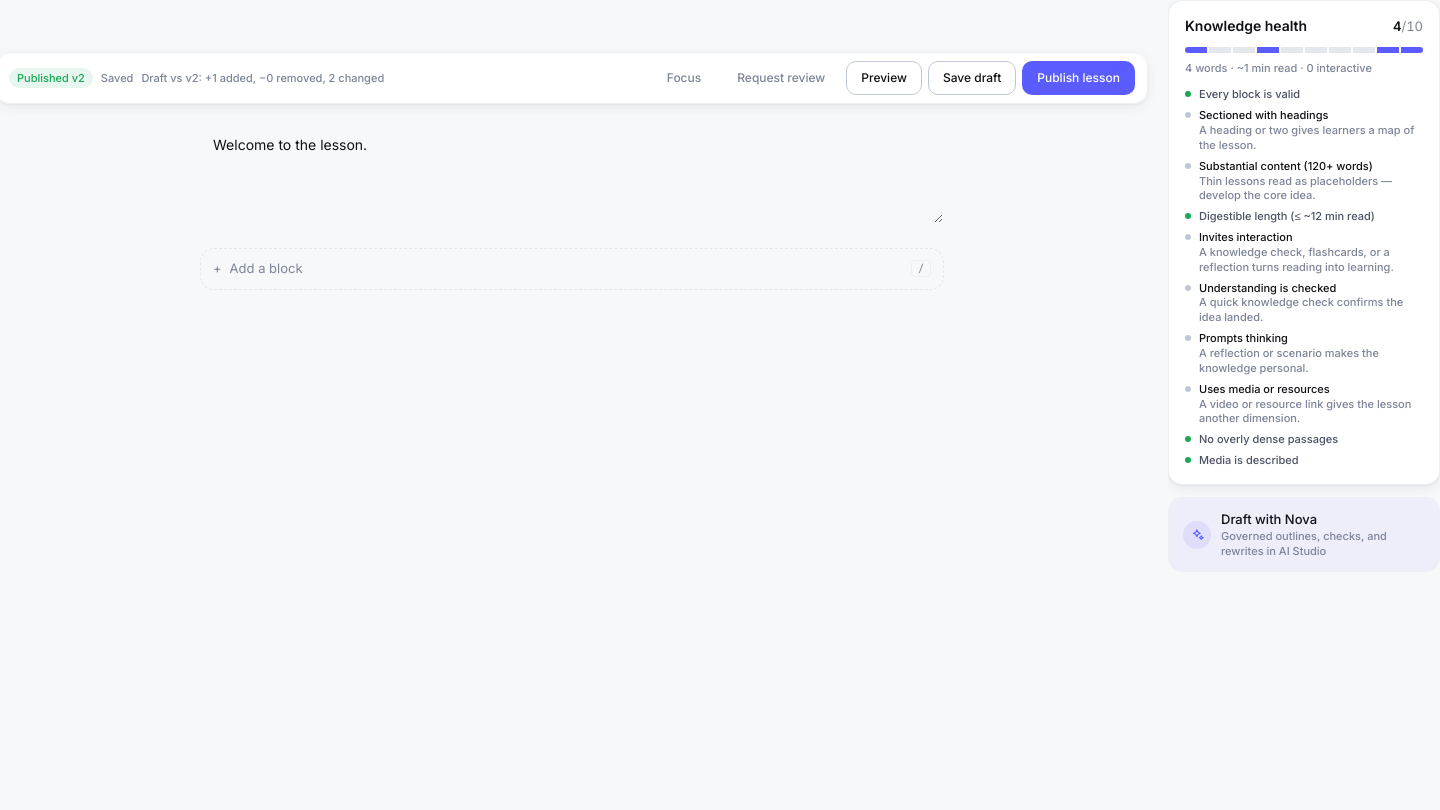
Test: lesson editor › publishing is a ceremony: dialog states the version and real checks
Click the button "Publish lesson" at (1079, 78), box x1=1022 y1=61 x2=1135 y2=95
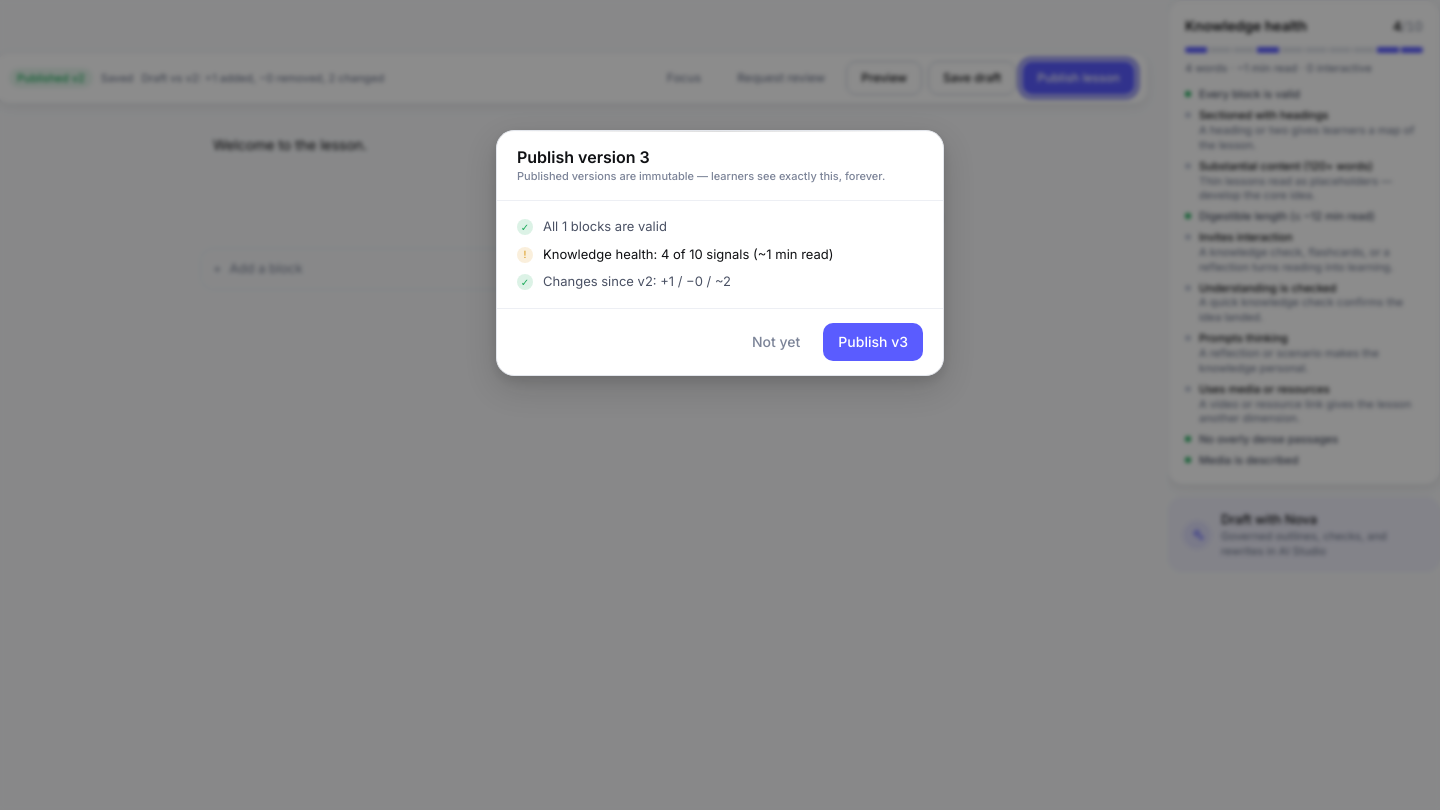
Now the dialog named "publish lesson" shows "Publish version 3", box x1=496 y1=130 x2=944 y2=376
Now the dialog named "publish lesson" shows "all 1 blocks are valid", box x1=543 y1=218 x2=667 y2=234
Now the dialog named "publish lesson" shows "immutable", box x1=517 y1=169 x2=885 y2=183
